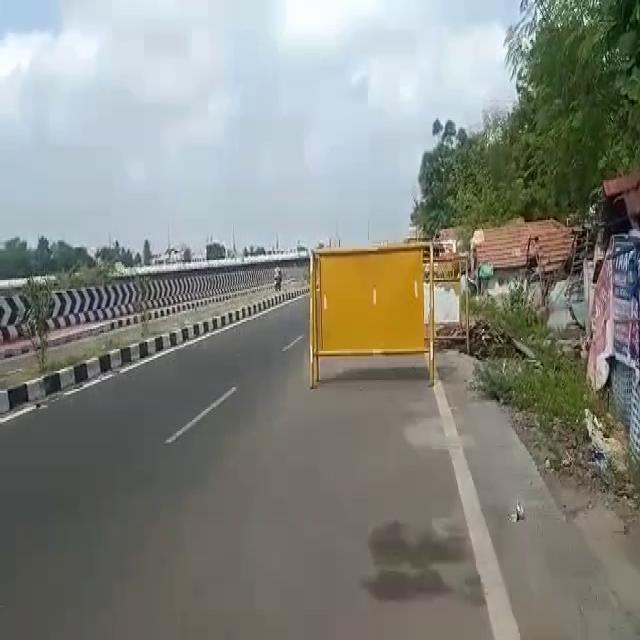fallen_object: (289, 229, 461, 401)
